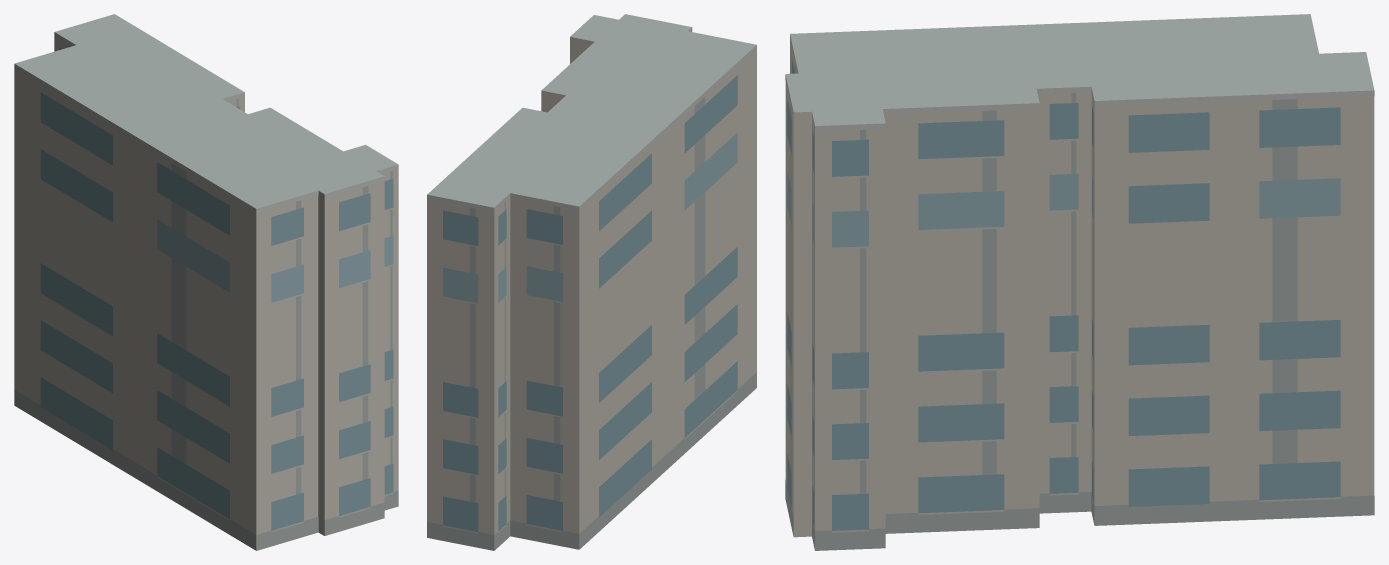
Rendered from survey-upis-32605292.glb.
3 renders of one model, left to right at view 1: azimuth 30°, elevation 25°; view 2: azimuth 150°, elevation 25°; view 3: azimuth 270°, elevation 25°, orthographic. The views are drawn at different scales.
Visible parts, largest first — view 1: survey-upis-32605292.tmp; view 2: survey-upis-32605292.tmp; view 3: survey-upis-32605292.tmp.
Part boxes in pixels (x1=…): survey-upis-32605292.tmp: x1=14, y1=14, x2=398, y2=550; survey-upis-32605292.tmp: x1=427, y1=14, x2=756, y2=550; survey-upis-32605292.tmp: x1=785, y1=14, x2=1374, y2=550.
Bounding box in the file's own units: 10.13 × 17.9 × 22.5.
